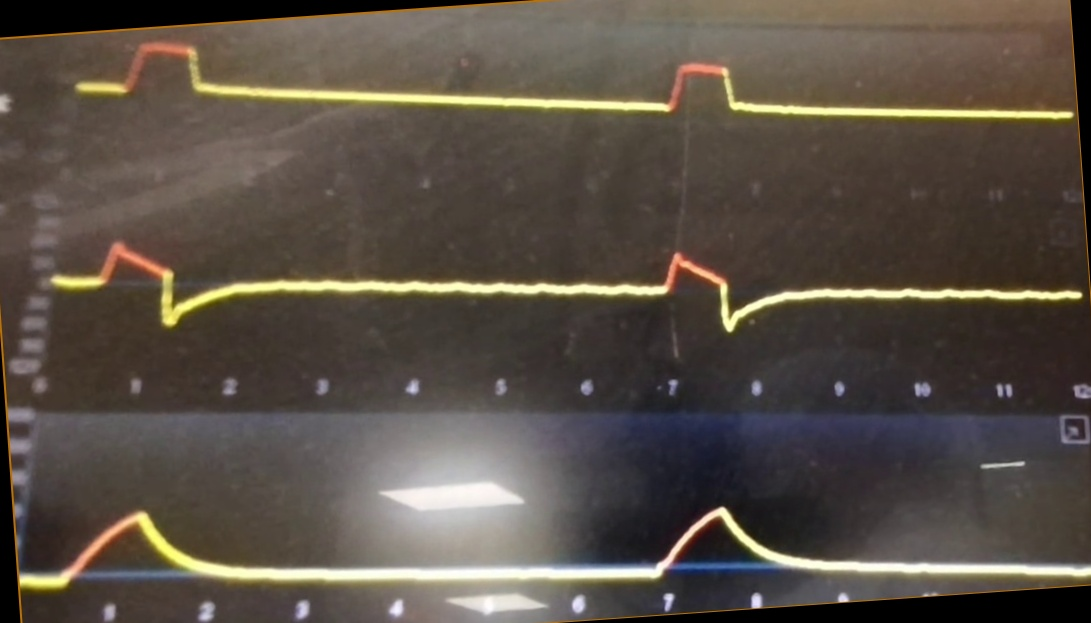Normal Flow: (50, 210, 1079, 353)
Normal Volume: (25, 478, 1091, 589)
